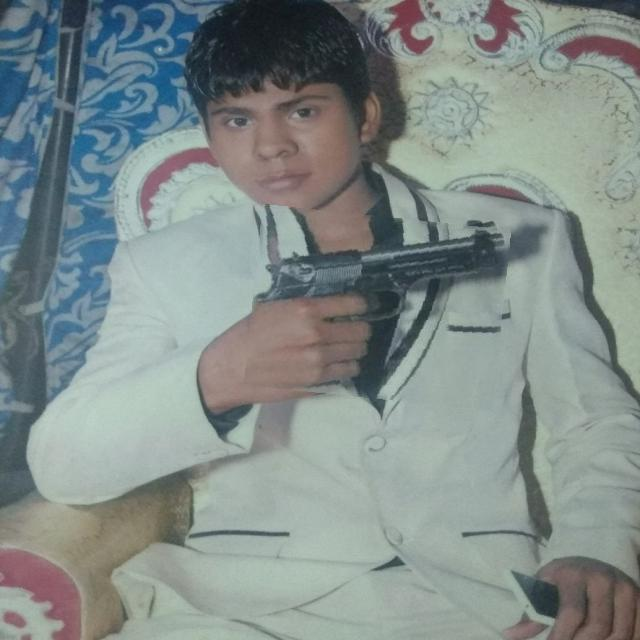handgun: (248, 211, 508, 335)
